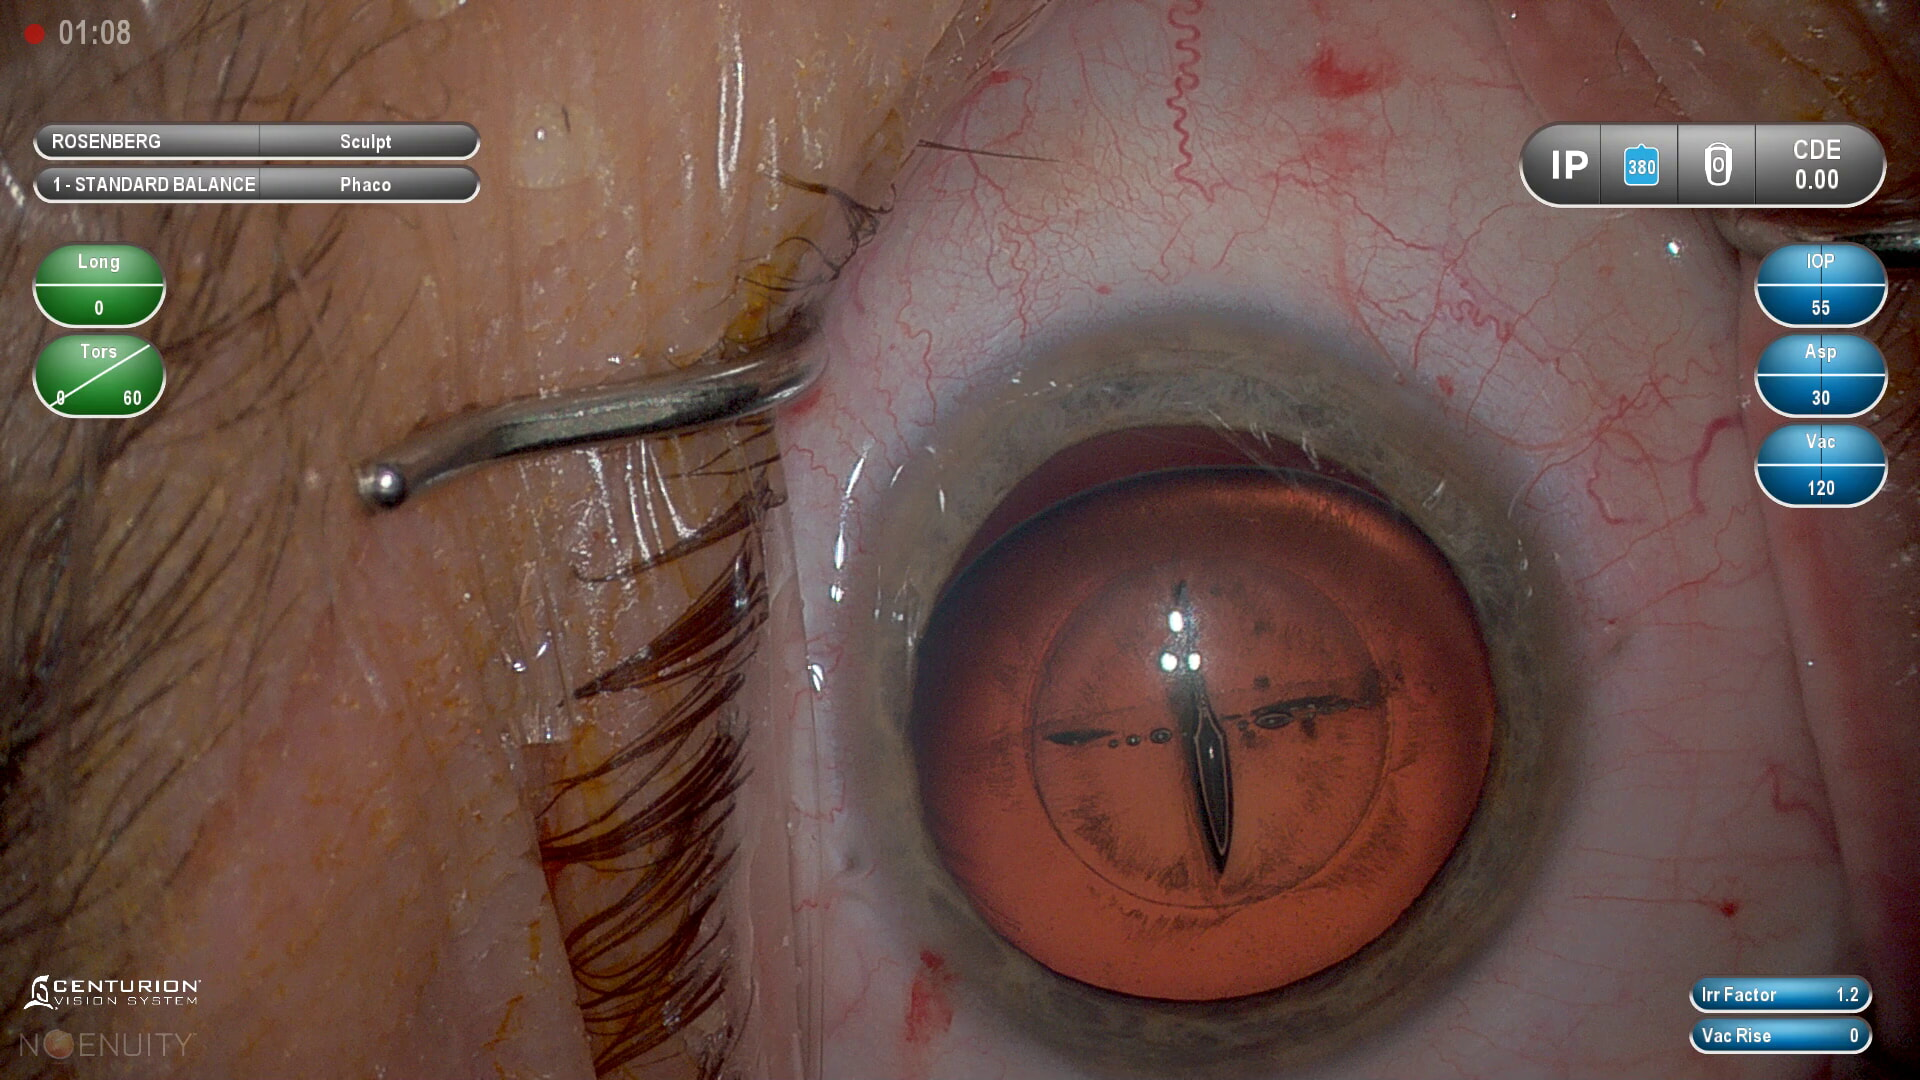iris: (852, 321, 1583, 1080)
pupil: (911, 429, 1510, 990)
